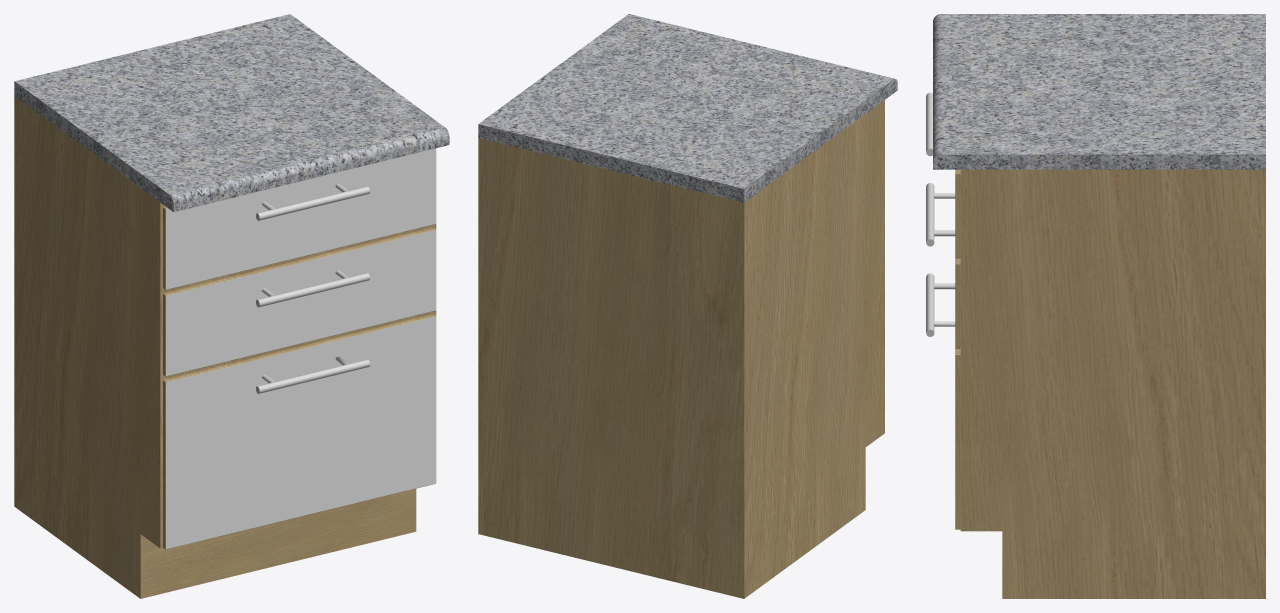
File: drawersCabinet.glb
3 views of the same model, side by side, from view 1: azimuth 30°, elevation 25°; view 2: azimuth 150°, elevation 25°; view 3: azimuth 270°, elevation 25° (orthographic). The views are drawn at different scales.
Parts seen in each view (by area): view 1: GC_25H/25H/50H.001_Cube.327; view 2: GC_25H/25H/50H.001_Cube.327; view 3: GC_25H/25H/50H.001_Cube.327.
Boxes of the visible parts, x1,y1,x2,y2 form: GC_25H/25H/50H.001_Cube.327: [14, 14, 449, 598]; GC_25H/25H/50H.001_Cube.327: [478, 14, 897, 598]; GC_25H/25H/50H.001_Cube.327: [926, 14, 1265, 598].
Bounding box in the file's own units: 0.6 × 0.8841 × 0.6126.
Materials: 7 (5 with a texture image).
